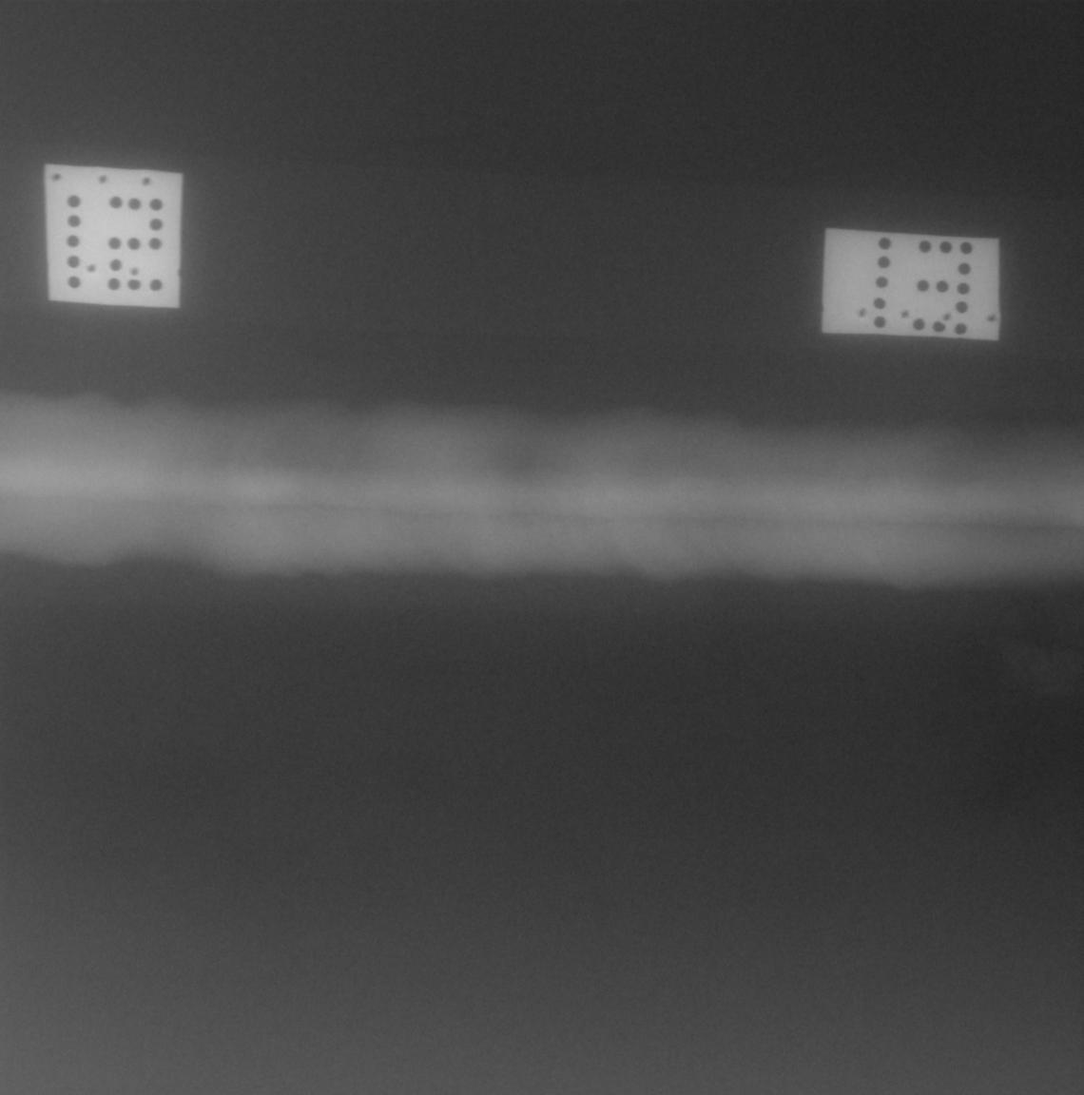Pore/Porosity: (328, 467, 331, 472)
